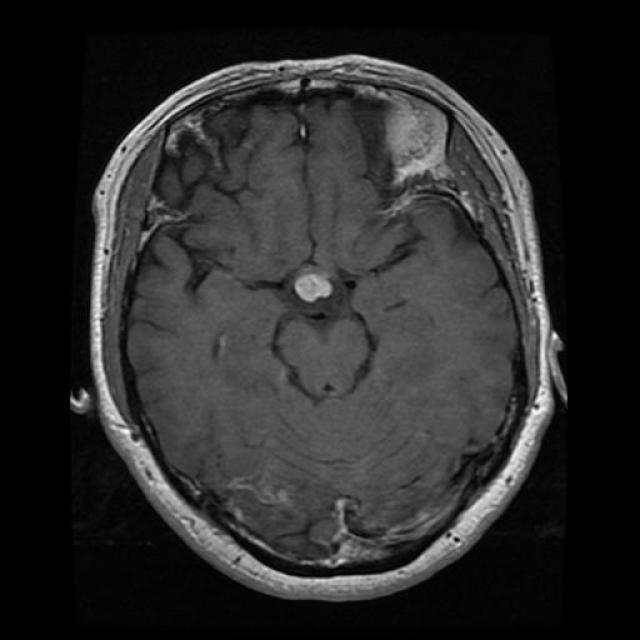pituitary: (280, 260, 348, 316)
